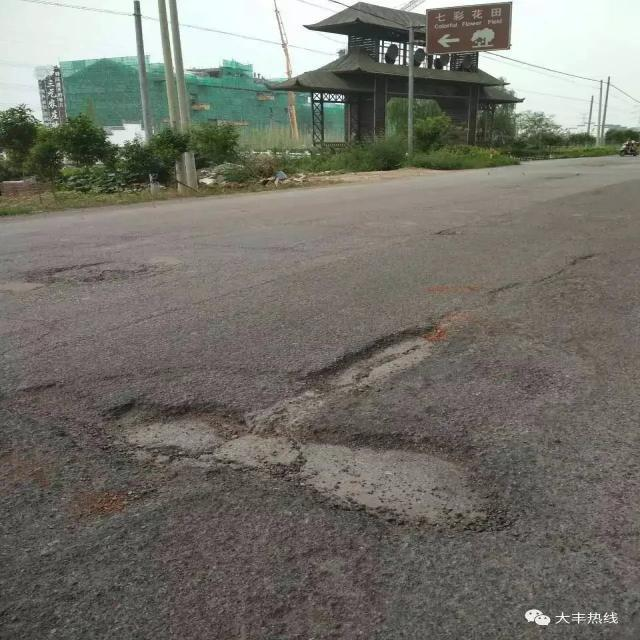Buraco: (95, 318, 516, 538), (20, 258, 153, 287)
